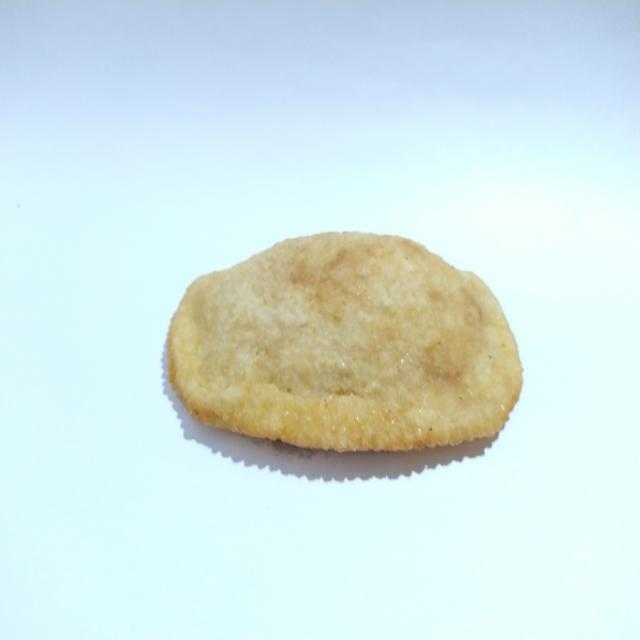Food: (160, 220, 523, 471)
